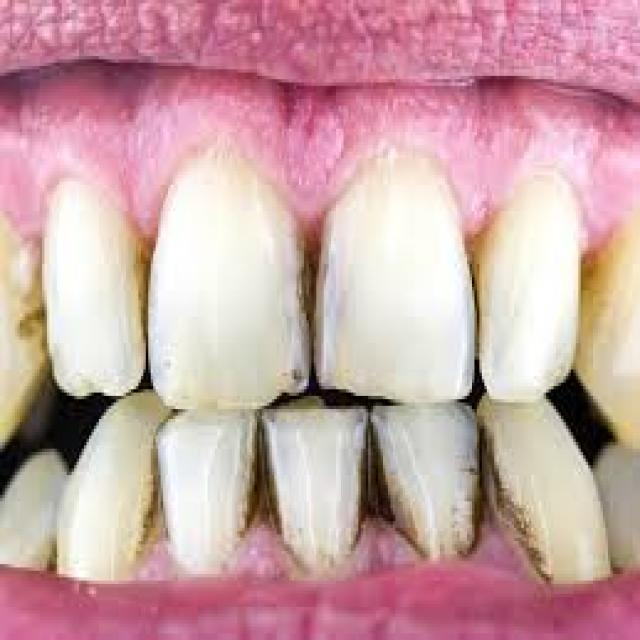tooth: (156, 145, 302, 403), (324, 168, 477, 406), (44, 175, 146, 392), (477, 162, 573, 389), (479, 386, 576, 577), (364, 402, 479, 561), (571, 208, 640, 429), (62, 409, 151, 571), (264, 412, 356, 564), (2, 211, 44, 442), (166, 416, 237, 548), (580, 432, 640, 567), (7, 448, 62, 570), (593, 432, 640, 564)
